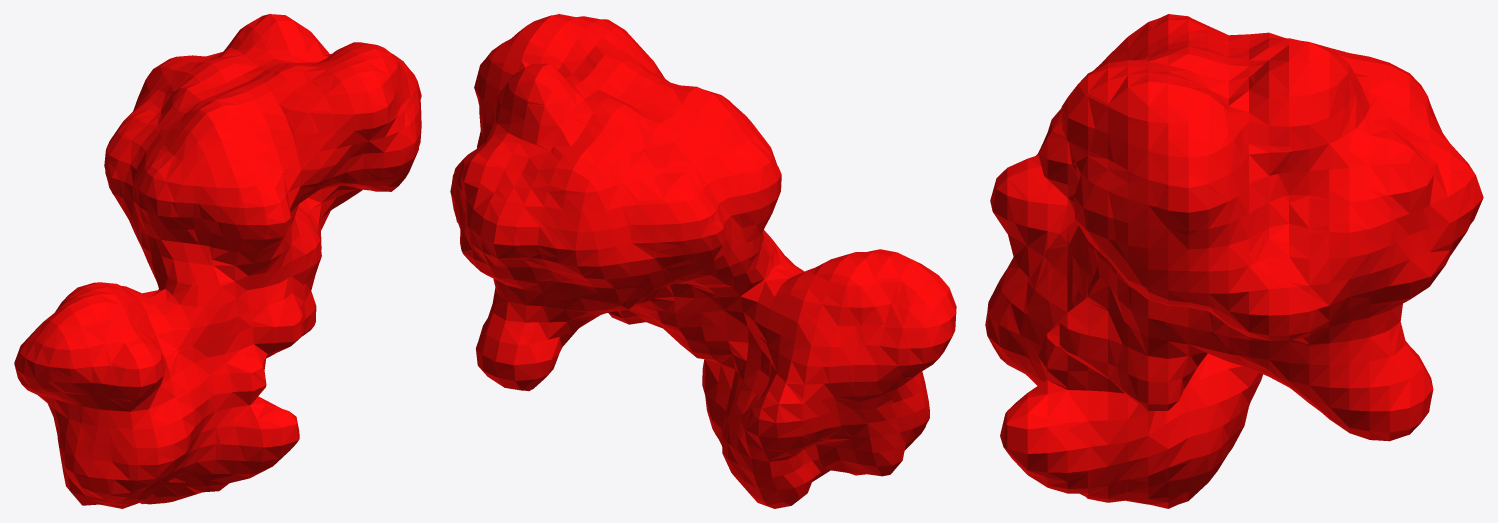
File: lysS_coarse.dae
The picture shows the model from 3 angles, left to right: view 1: azimuth 30°, elevation 25°; view 2: azimuth 150°, elevation 25°; view 3: azimuth 270°, elevation 25°; orthographic projection. The views are drawn at different scales.
Parts seen in each view (by area): view 1: lysS; view 2: lysS; view 3: lysS.
Part boxes in pixels (<box>): lysS: <box>14,14,421,508</box>; lysS: <box>450,14,956,508</box>; lysS: <box>985,14,1483,508</box>.
Bounding box in the file's own units: 87.29 × 81.11 × 63.44.
